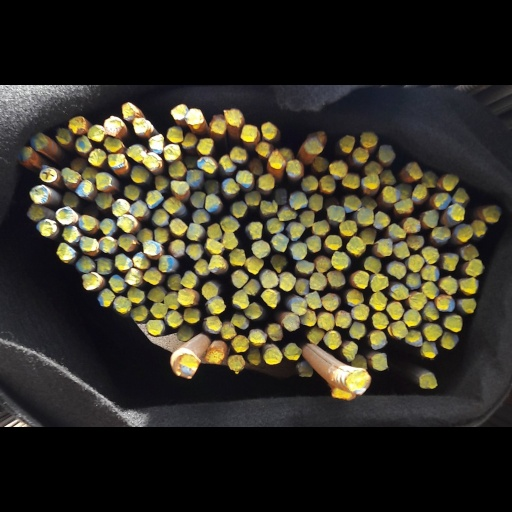dipstick: (170, 348, 201, 379), (348, 368, 371, 394), (56, 242, 76, 263), (208, 254, 228, 274), (116, 214, 137, 233), (260, 289, 281, 308), (55, 206, 77, 224), (81, 272, 103, 290), (104, 116, 123, 136), (29, 184, 49, 203), (223, 108, 243, 127), (323, 330, 342, 350), (440, 331, 460, 350), (130, 200, 149, 219), (251, 239, 270, 258), (288, 241, 307, 260), (388, 320, 407, 339), (68, 116, 88, 134), (142, 152, 162, 170), (244, 301, 264, 319), (329, 160, 347, 180), (285, 222, 305, 240), (465, 259, 485, 277), (422, 302, 440, 322), (36, 218, 57, 235), (422, 324, 443, 341), (112, 198, 130, 217), (118, 234, 137, 252), (203, 315, 221, 334), (187, 223, 206, 241), (162, 196, 181, 214), (285, 159, 303, 178), (246, 255, 264, 274), (321, 293, 340, 311), (421, 246, 440, 264), (130, 165, 150, 182), (146, 189, 163, 209), (126, 144, 146, 161), (220, 177, 240, 194), (344, 289, 364, 306), (418, 373, 439, 389), (30, 132, 48, 150), (26, 203, 44, 221), (125, 268, 143, 286), (208, 295, 226, 313), (143, 267, 161, 285), (163, 143, 181, 161), (240, 124, 258, 142), (259, 200, 277, 218), (271, 234, 289, 252), (231, 334, 249, 352), (284, 342, 302, 360), (317, 175, 335, 193), (309, 272, 327, 290), (306, 326, 324, 344), (346, 236, 364, 254), (358, 227, 376, 245), (422, 209, 440, 227), (444, 314, 462, 332), (205, 348, 224, 365), (180, 270, 197, 289), (152, 208, 169, 227), (198, 156, 217, 173), (229, 146, 248, 163), (219, 154, 236, 173), (231, 269, 248, 288), (289, 192, 308, 209), (294, 260, 313, 277), (326, 205, 345, 222), (431, 226, 450, 243), (439, 277, 458, 294), (148, 133, 164, 153), (460, 244, 480, 260), (342, 340, 357, 361), (88, 148, 106, 165), (75, 180, 93, 197), (99, 218, 116, 236), (62, 225, 80, 242), (96, 257, 114, 274), (126, 286, 144, 303), (132, 252, 150, 269), (201, 282, 218, 300), (186, 243, 204, 260), (169, 218, 187, 235), (255, 140, 273, 157), (245, 221, 262, 239), (270, 254, 287, 272), (261, 270, 278, 288), (243, 279, 261, 296), (232, 290, 249, 308), (226, 354, 244, 371), (282, 313, 299, 331), (317, 313, 334, 331), (378, 145, 396, 162), (335, 310, 352, 328), (370, 332, 387, 350), (349, 321, 366, 339), (351, 304, 369, 321), (331, 251, 348, 269), (363, 256, 381, 273), (369, 292, 386, 310), (386, 302, 403, 320), (356, 208, 374, 225), (388, 223, 406, 240), (394, 197, 412, 214), (455, 224, 473, 241), (407, 254, 424, 272), (421, 264, 439, 281), (460, 277, 478, 294), (421, 281, 439, 298), (409, 292, 426, 310), (403, 310, 421, 327), (420, 340, 437, 358), (112, 296, 131, 312), (114, 254, 133, 270), (220, 321, 236, 340), (184, 108, 203, 124), (210, 115, 226, 134), (191, 208, 211, 223), (75, 135, 92, 152), (88, 124, 105, 141), (165, 310, 182, 327), (186, 169, 203, 186), (170, 103, 187, 120), (197, 138, 214, 155), (230, 201, 247, 218), (371, 274, 388, 291), (372, 312, 389, 329), (375, 239, 392, 256), (393, 241, 410, 258), (434, 193, 451, 210), (55, 128, 73, 144), (78, 215, 96, 231), (76, 256, 94, 272), (97, 290, 115, 306), (169, 239, 185, 257), (207, 238, 225, 254), (268, 150, 284, 168), (229, 248, 245, 266), (266, 217, 284, 233), (264, 348, 282, 364), (250, 329, 266, 347), (290, 298, 306, 316), (298, 210, 314, 228), (327, 270, 345, 286), (339, 220, 357, 236), (391, 284, 409, 300), (374, 211, 390, 229), (382, 186, 400, 202), (443, 173, 459, 191), (405, 233, 423, 249), (436, 296, 454, 312), (406, 329, 422, 347), (61, 168, 80, 183), (79, 236, 98, 251), (170, 179, 189, 194), (205, 193, 220, 212), (280, 272, 295, 291), (311, 220, 330, 235), (277, 207, 298, 220), (70, 156, 87, 172), (40, 166, 57, 182), (95, 192, 112, 208), (109, 275, 126, 291), (177, 324, 193, 341), (150, 302, 167, 318), (164, 293, 180, 310), (193, 259, 210, 275), (167, 126, 183, 143), (261, 122, 277, 139), (236, 170, 252, 187), (306, 136, 322, 153), (305, 291, 321, 308), (314, 256, 331, 272), (406, 161, 422, 178), (404, 217, 421, 233), (442, 254, 458, 271), (104, 136, 122, 151), (130, 305, 148, 320), (146, 320, 164, 335), (143, 240, 161, 255), (168, 161, 186, 176), (221, 217, 239, 232), (231, 313, 249, 328), (295, 277, 310, 295), (339, 135, 354, 153), (360, 132, 378, 147), (372, 353, 387, 371), (343, 196, 361, 211), (342, 173, 360, 188), (449, 203, 464, 221), (482, 205, 497, 223), (364, 161, 383, 175), (95, 172, 111, 188), (177, 289, 193, 305), (189, 191, 205, 207), (258, 174, 274, 190), (267, 324, 283, 340), (405, 273, 421, 289), (124, 184, 139, 201), (62, 192, 79, 207), (99, 238, 116, 253), (147, 287, 164, 302), (167, 273, 182, 290), (158, 255, 173, 272), (154, 226, 169, 243), (154, 175, 169, 192), (301, 176, 318, 191), (207, 223, 222, 240), (296, 362, 313, 377), (306, 235, 321, 252), (354, 270, 369, 287), (411, 185, 426, 202), (107, 153, 125, 167), (309, 193, 323, 211), (82, 167, 97, 183), (184, 308, 200, 323), (138, 227, 153, 243), (133, 118, 148, 134), (182, 132, 197, 148), (204, 179, 220, 194), (244, 191, 260, 206), (273, 189, 288, 205), (353, 147, 369, 162), (391, 263, 406, 279), (453, 188, 469, 203), (462, 297, 477, 313), (351, 354, 367, 369), (363, 175, 380, 189), (471, 219, 485, 236), (325, 235, 341, 249), (122, 102, 135, 119), (17, 145, 31, 160), (381, 170, 395, 185), (315, 156, 329, 170)
